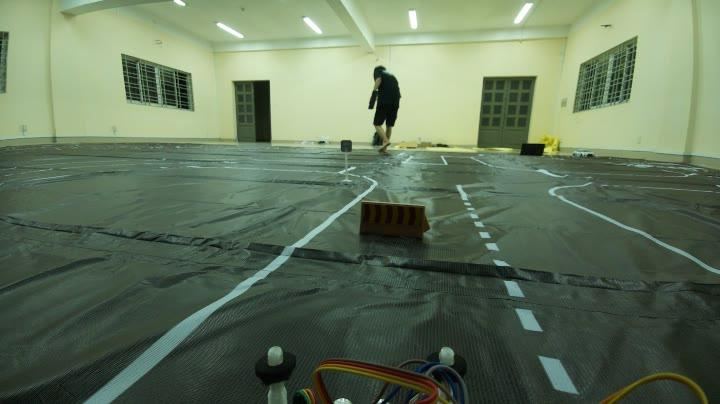roadblock: (350, 190, 442, 254)
